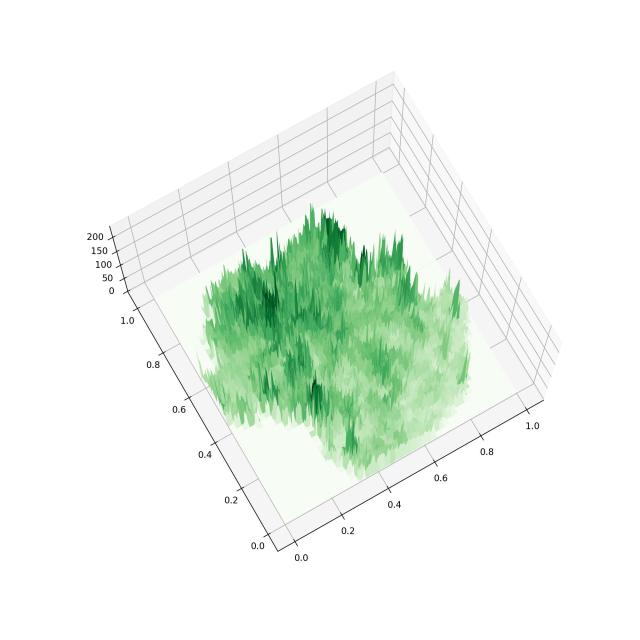spruce: (30, 39, 577, 615)
